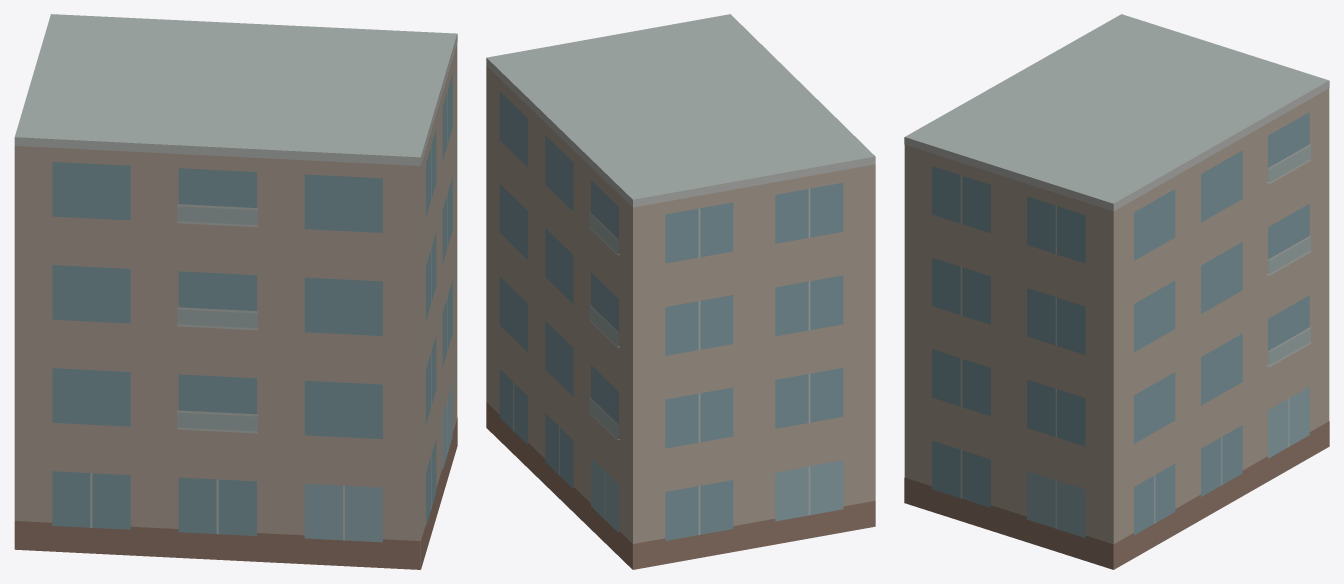
The model's file is survey-upis-32803536.glb.
3 renders of one model, left to right at view 1: azimuth 30°, elevation 25°; view 2: azimuth 150°, elevation 25°; view 3: azimuth 270°, elevation 25°, orthographic. The views are drawn at different scales.
Parts seen in each view (by area): view 1: survey-upis-32803536.tmp; view 2: survey-upis-32803536.tmp; view 3: survey-upis-32803536.tmp.
Part boxes in pixels (<box>): survey-upis-32803536.tmp: <box>14,14,457,569</box>; survey-upis-32803536.tmp: <box>486,14,875,569</box>; survey-upis-32803536.tmp: <box>904,14,1329,569</box>.
Bounding box in the file's own units: 12.91 × 11.6 × 12.21.
